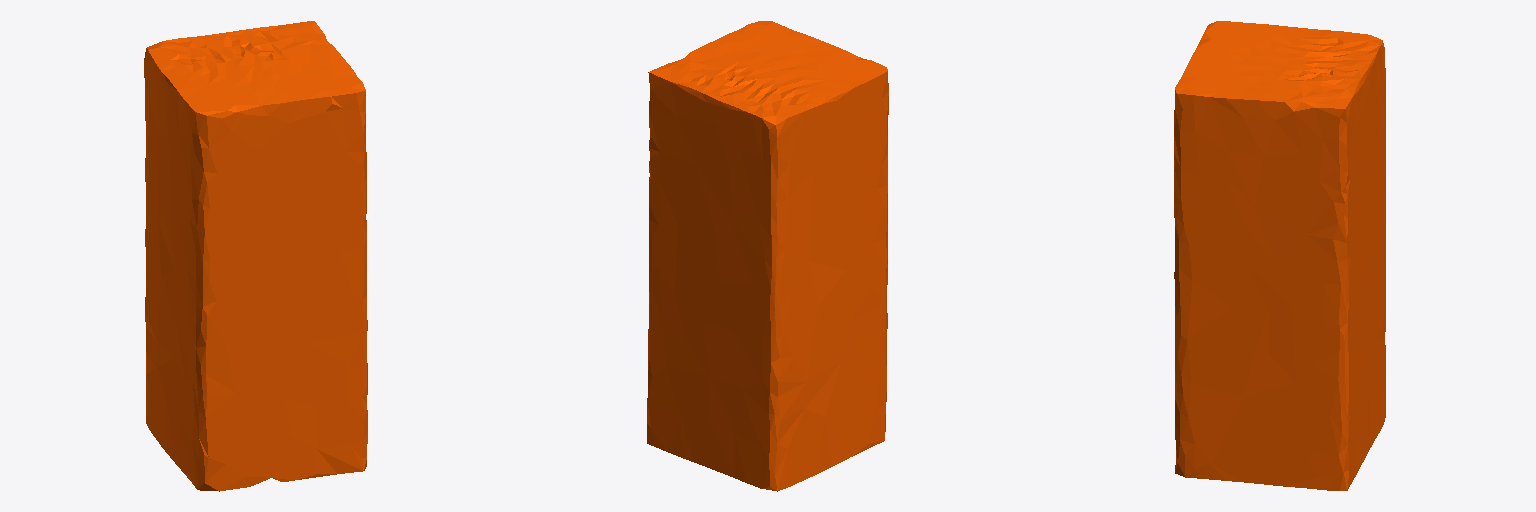
robot.urdf — 036_wood_block:
<?xml version="1.0" ?>
<robot name="036_wood_block">
   <material name="obj_color">
      <color rgba="1.0 0.423529411765 0.0392156862745 1.0"/>
   </material>
   <link name="top">
      <inertial>
         <origin rpy="0.0003181877183306785 0.001022850392663818 0.001028303332194369" xyz="-0.001798549845201169 0.002147000777162033 -0.01736107538305086"/>
         <mass value="0.24875"/>
         <inertia ixx="0.001023648347185285" ixy="1.942709961566397e-06" ixz="5.283666685456218e-06" iyy="0.00102745209877839" iyz="3.132416448139827e-06" izz="0.0003182409972251905"/>
      </inertial>
      <visual>
         <origin rpy="0 0 0" xyz="0 0 0"/>
         <geometry>
            <mesh filename="top_watertight_tiny.stl" scale="1 1 1"/>
         </geometry>
         <material name="obj_color"/>
      </visual>
      <collision>
         <origin rpy="0 0 0" xyz="0 0 0"/>
         <geometry>
            <mesh filename="top_watertight_tiny.obj" scale="1 1 1"/>
         </geometry>
      </collision>
   </link>
   <link name="bottom">
      <inertial>
         <origin rpy="1.633333333199431e-08 1.633333333199431e-08 1.633333333362855e-08" xyz="0.3464080000000008 0.3464080000000008 0.3464080000000008"/>
         <mass value="0.0009800000000000017"/>
         <inertia ixx="1.633333333253906e-08" ixy="5.447480642029219e-19" ixz="5.447480642029219e-19" iyy="1.633333333253906e-08" iyz="5.447480642029219e-19" izz="1.633333333253906e-08"/>
      </inertial>
      <visual>
         <origin rpy="0 0 0" xyz="0 0 0"/>
         <geometry>
            <mesh filename="bottom_watertight_tiny.stl" scale="1 1 1"/>
         </geometry>
         <material name="obj_color"/>
      </visual>
   </link>
   <joint name="rotation" type="revolute">
      <origin xyz="0 0 0"/>
      <axis xyz="0 0 -1"/>
      <parent link="bottom"/>
      <child link="top"/>
      <dynamics damping="1.0" friction="1.0"/>
      <limit effort="0.1" velocity="0.1" lower="0" upper="0.001"/>
   </joint>
</robot>

--- Facts derived from the render (not from the file) ---
3 views of the same robot in one strip: view 1: azimuth 30°, elevation 25°; view 2: azimuth 150°, elevation 25°; view 3: azimuth 270°, elevation 25° (orthographic).
Model 036_wood_block with 2 links and 1 joints (1 revolute), rooted at bottom, posed every joint at zero.
Visible links, largest first — view 1: top; view 2: top; view 3: top.
Boxes of the visible links, <box> form: top: <box>144,21,367,491</box>; top: <box>647,21,888,491</box>; top: <box>1174,21,1385,490</box>.
Size in the robot's own frame: 0.1041 by 0.1034 by 0.2057 metres.
Meshes: 2 distinct files referenced, 1 mesh visuals loaded (1 binary STL); not drawn: 1 (reference not matched to a file when rendering).